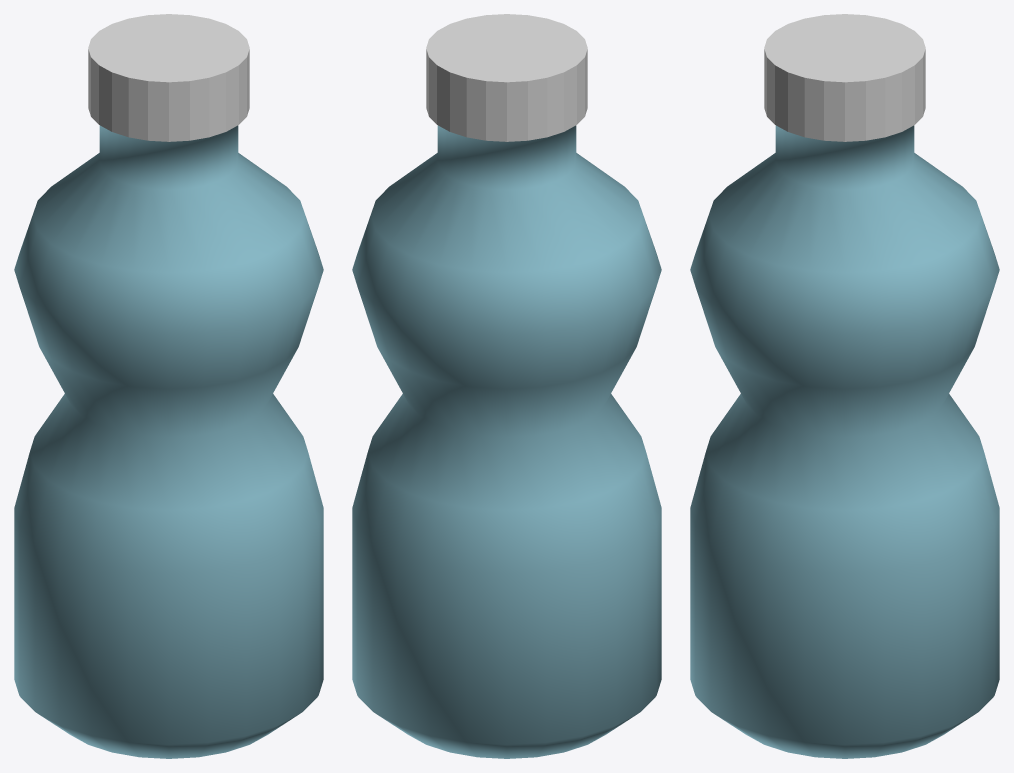
Rendered from Plastic_Bottle_1.fbx.
3 views of the same model, side by side, from view 1: azimuth 30°, elevation 25°; view 2: azimuth 150°, elevation 25°; view 3: azimuth 270°, elevation 25° (orthographic).
Parts seen in each view (by area): view 1: Cylinder.029; view 2: Cylinder.029; view 3: Cylinder.029.
Boxes of the visible parts, <box> form: Cylinder.029: <box>14,14,323,758</box>; Cylinder.029: <box>352,14,661,758</box>; Cylinder.029: <box>690,14,999,758</box>.
Size of the model in its own units: 8.52 by 20.11 by 8.52.
